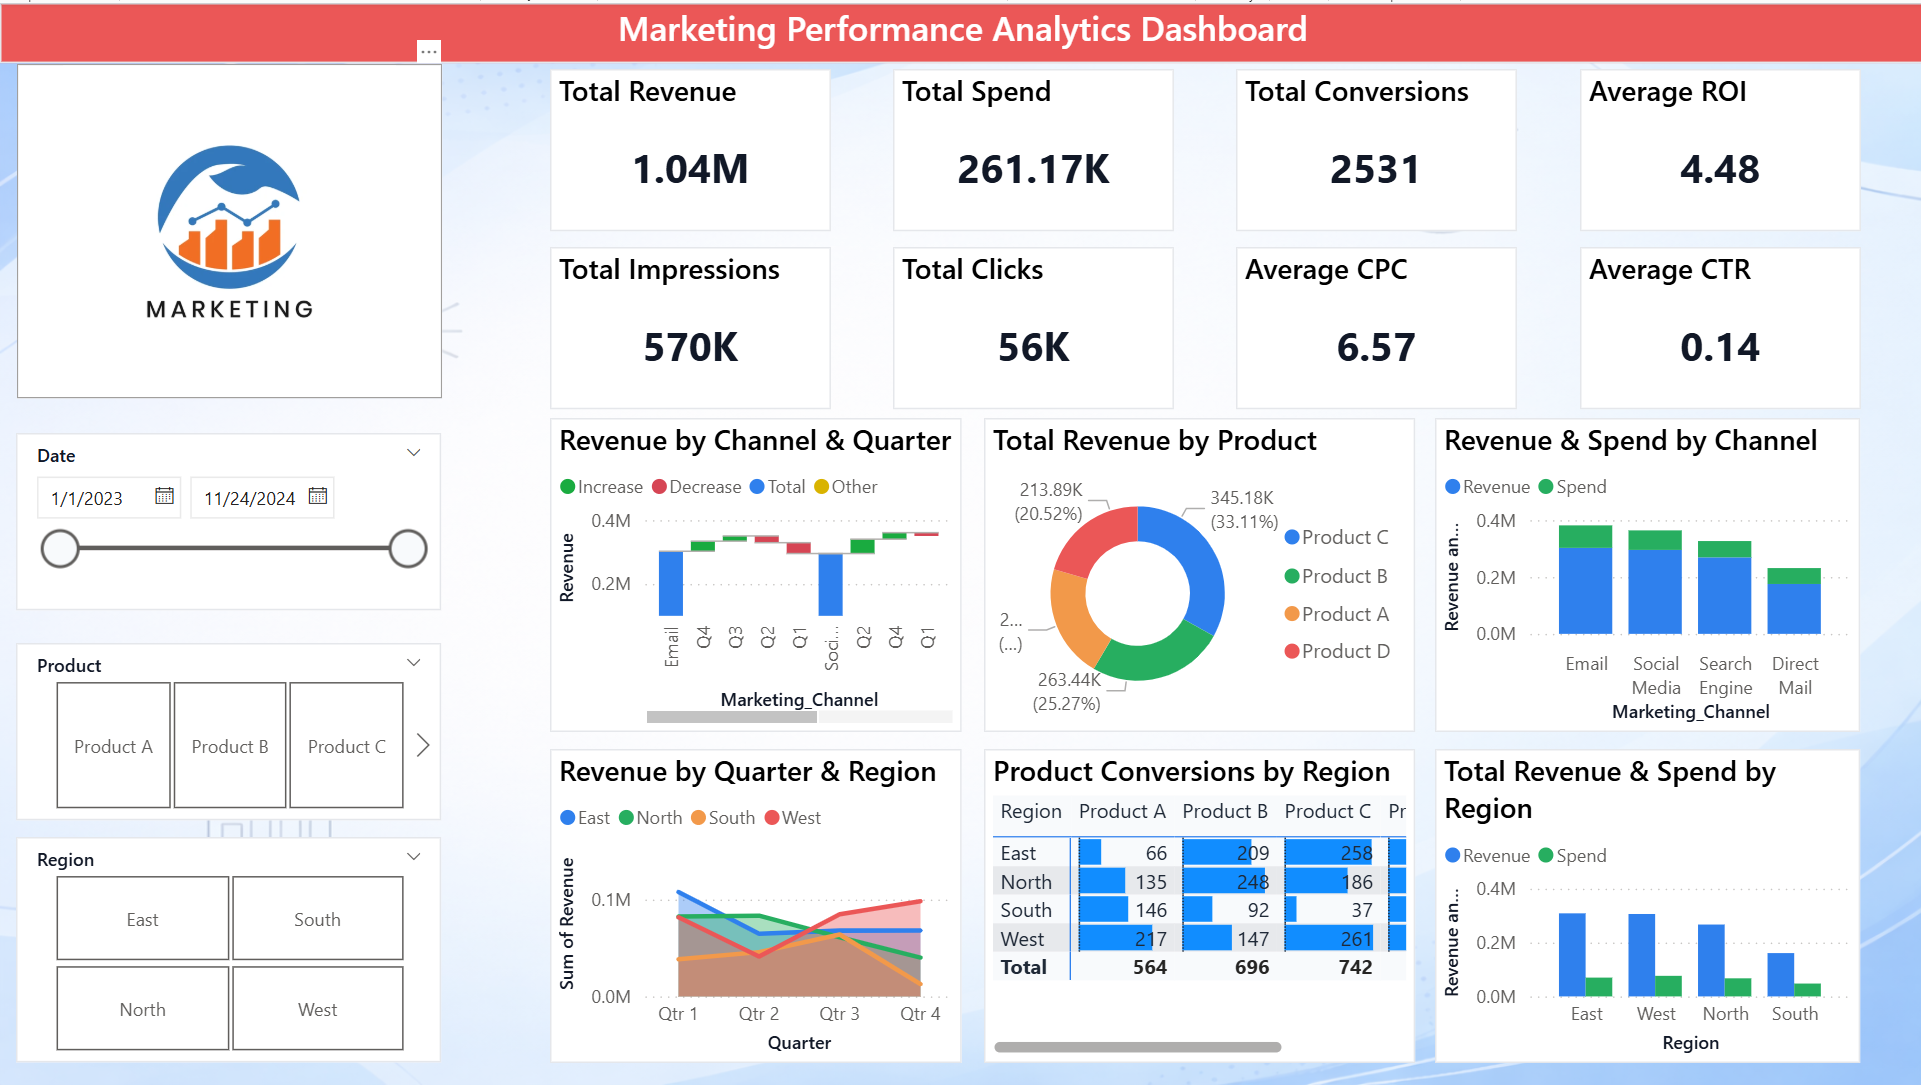

What the dashboard file says about the page in this screenshot:
{"tool":"powerbi","page":{"name":"Revenue Dashboard","canvas":[1280,720],"ordinal":0},"visuals":[{"type":"textbox","title":"Marketing Performance Analytics Dashboard","box":[0,0,1280,40.4],"z":0},{"type":"card","title":"Total Impressions","fields":{"Values":["Measures (2).Total Impressions"]},"box":[365.9,162.4,186.6,108],"z":1000},{"type":"card","title":"Average ROI","fields":{"Values":["Measures (2).Average ROI"]},"box":[1051.5,44.1,186.6,108],"z":2000},{"type":"card","title":"Total Conversions","fields":{"Values":["Measures (2).Total Conversions"]},"box":[823,44.1,186.6,108],"z":3000},{"type":"card","title":"Total Spend","fields":{"Values":["Measures (2).Total Spend"]},"box":[594.4,44.1,186.6,108],"z":4000},{"type":"card","title":"Total Revenue","fields":{"Values":["Measures (2).Total Revenue"]},"box":[365.9,44.1,186.6,108],"z":5000},{"type":"card","title":"Average CTR","fields":{"Values":["Measures (2).Average CTR"]},"box":[1051.5,162.4,186.6,108],"z":6000},{"type":"card","title":"Average CPC","fields":{"Values":["Measures (2).Average CPC"]},"box":[823,162.4,186.6,108],"z":7000},{"type":"card","title":"Total Clicks","fields":{"Values":["Measures (2).Total Clicks"]},"box":[594.4,162.4,186.6,108],"z":8000},{"type":"image","box":[11,40.4,282.9,222.6],"z":9000},{"type":"slicer","fields":{"Values":["Metrics Table.Product"]},"box":[10.8,426.2,283.1,117.7],"z":10000},{"type":"slicer","fields":{"Values":["Metrics Table.Date"]},"box":[10.8,286.2,283.1,117.7],"z":11000},{"type":"slicer","fields":{"Values":["Metrics Table.Region"]},"box":[10.8,555.4,283.1,150],"z":12000},{"type":"donutChart","fields":{"Category":["Metrics Table.Product"],"Y":["Measures (2).Total Revenue"]},"box":[654.7,276.3,286.6,208.7],"z":13000},{"type":"waterfallChart","title":"Revenue by Channel & Quarter","fields":{"Breakdown":["Metrics Table.Quarter"],"Category":["Metrics Table.Marketing_Channel"],"Y":["Sum(Metrics Table.Revenue)"]},"box":[365.9,276.3,274.1,208.7],"z":14000},{"type":"columnChart","title":"Revenue & Spend by Channel","fields":{"Category":["Metrics Table.Marketing_Channel"],"Y":["Sum(Metrics Table.Revenue)","Sum(Metrics Table.Spend)"]},"box":[955.2,276.3,282.9,208.7],"z":15000},{"type":"areaChart","title":"Revenue by Quarter & Region","fields":{"Category":["Metrics Table.Date.Variation.Date Hierarchy.Quarter"],"Series":["Metrics Table.Region"],"Y":["Sum(Metrics Table.Revenue)"]},"box":[365.9,496.7,274.1,208.7],"z":16000},{"type":"pivotTable","title":"Product Conversions by Region","fields":{"Columns":["Metrics Table.Product"],"Rows":["Metrics Table.Region"],"Values":["Measures (2).Total Conversions"]},"box":[654.7,496.7,286.6,208.7],"z":17000},{"type":"clusteredColumnChart","title":"Total Revenue & Spend by Region","fields":{"Category":["Metrics Table.Region"],"Y":["Sum(Metrics Table.Revenue)","Sum(Metrics Table.Spend)"]},"box":[955.2,496.7,282.9,208.7],"z":18000}]}

Visuals, with their boxes in screenshot pixels (x1, y1, x2, y2), scaled from the page's 1280x720 canvas onto the 1921x1085 screenshot:
"Marketing Performance Analytics Dashboard" textbox: <bbox>0, 0, 1920, 61</bbox>
"Total Impressions" card: <bbox>549, 245, 829, 407</bbox>
"Average ROI" card: <bbox>1578, 66, 1858, 229</bbox>
"Total Conversions" card: <bbox>1235, 66, 1515, 229</bbox>
"Total Spend" card: <bbox>892, 66, 1172, 229</bbox>
"Total Revenue" card: <bbox>549, 66, 829, 229</bbox>
"Average CTR" card: <bbox>1578, 245, 1858, 407</bbox>
"Average CPC" card: <bbox>1235, 245, 1515, 407</bbox>
"Total Clicks" card: <bbox>892, 245, 1172, 407</bbox>
image: <bbox>17, 61, 441, 396</bbox>
slicer - Metrics Table.Product: <bbox>16, 642, 441, 820</bbox>
slicer - Metrics Table.Date: <bbox>16, 431, 441, 609</bbox>
slicer - Metrics Table.Region: <bbox>16, 837, 441, 1063</bbox>
donutChart - Metrics Table.Product x Measures (2).Total Revenue: <bbox>983, 416, 1413, 731</bbox>
"Revenue by Channel & Quarter" waterfallChart: <bbox>549, 416, 960, 731</bbox>
"Revenue & Spend by Channel" columnChart: <bbox>1434, 416, 1858, 731</bbox>
"Revenue by Quarter & Region" areaChart: <bbox>549, 748, 960, 1063</bbox>
"Product Conversions by Region" pivotTable: <bbox>983, 748, 1413, 1063</bbox>
"Total Revenue & Spend by Region" clusteredColumnChart: <bbox>1434, 748, 1858, 1063</bbox>
